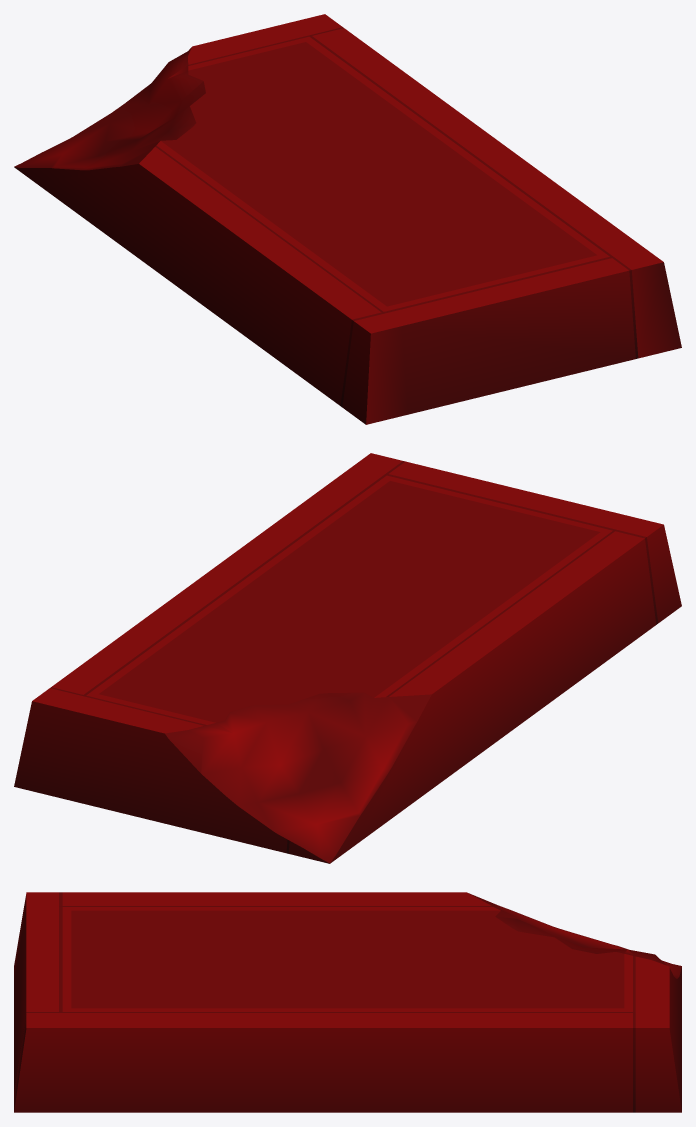
File: geology-landforms-citywidesidewalktile_v4.fbx
3 views of the same model, one above another, from view 1: azimuth 30°, elevation 25°; view 2: azimuth 150°, elevation 25°; view 3: azimuth 270°, elevation 25° (orthographic). The views are drawn at different scales.
Parts seen in each view (by area): view 1: CityWideSidewalkTile_v4; view 2: CityWideSidewalkTile_v4; view 3: CityWideSidewalkTile_v4.
Boxes of the visible parts, x1,y1,x2,y2 form: CityWideSidewalkTile_v4: [14, 14, 681, 424]; CityWideSidewalkTile_v4: [14, 453, 681, 863]; CityWideSidewalkTile_v4: [14, 892, 681, 1112].
Size of the model in its own units: 3.23 by 0.9517 by 6.24.
